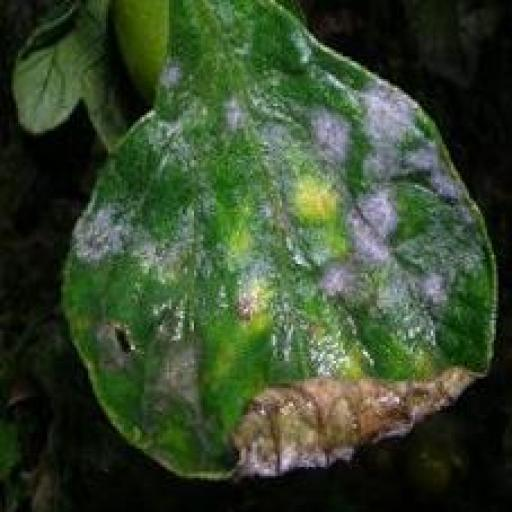Late Blight: (52, 0, 510, 487)
